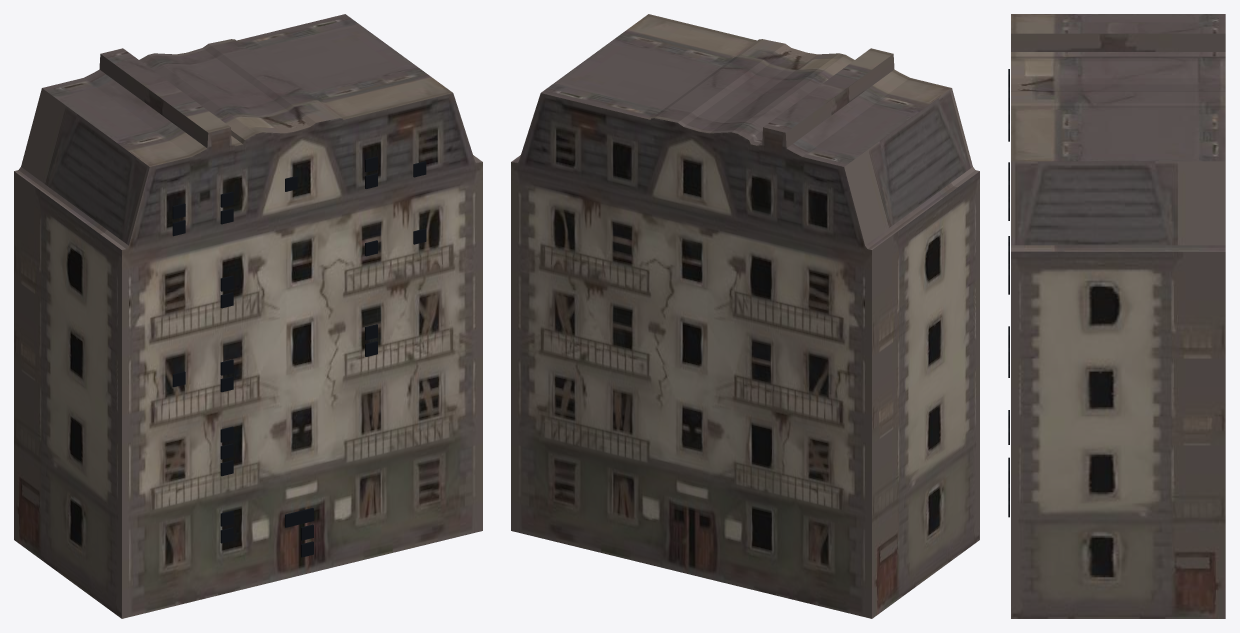
File: bg_city_building_2_lod0.glb
3 renders of one model, left to right at view 1: azimuth 30°, elevation 25°; view 2: azimuth 150°, elevation 25°; view 3: azimuth 270°, elevation 25°, orthographic.
Parts seen in each view (by area): view 1: body, windows; view 2: body; view 3: body, windows.
Boxes of the visible parts, x1,y1,x2,y2 form: body: (14, 14, 482, 618); windows: (172, 156, 426, 557); body: (511, 14, 979, 618); body: (1011, 14, 1225, 618); windows: (1008, 69, 1009, 517).
Size of the model in its own units: 9 by 11.08 by 4.72.
Materials: 2 (1 with a texture image).
